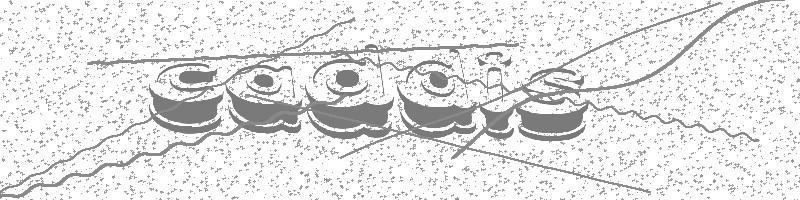a: (226, 64, 303, 134)
c: (149, 61, 225, 135)
d: (305, 43, 392, 139), (396, 48, 476, 139)
i: (475, 49, 515, 141)
s: (516, 67, 588, 142)
